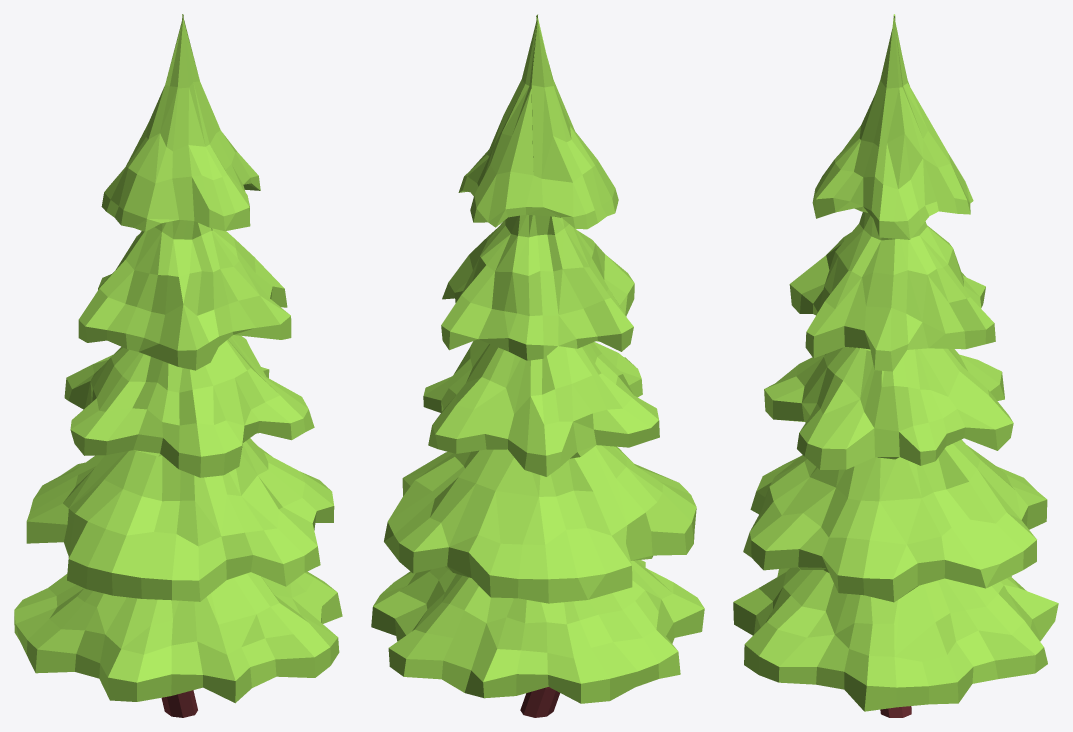
The picture shows the model from 3 angles, left to right: view 1: azimuth 30°, elevation 25°; view 2: azimuth 150°, elevation 25°; view 3: azimuth 270°, elevation 25°; orthographic projection.
Visible parts, largest first — view 1: _8_tree; view 2: _8_tree; view 3: _8_tree.
Part boxes in pixels (x1,y1,x2,y2): _8_tree: [14, 14, 342, 717]; _8_tree: [371, 14, 704, 717]; _8_tree: [733, 14, 1058, 717].
Size of the model in its own units: 0.9411 by 2.16 by 0.9146.
